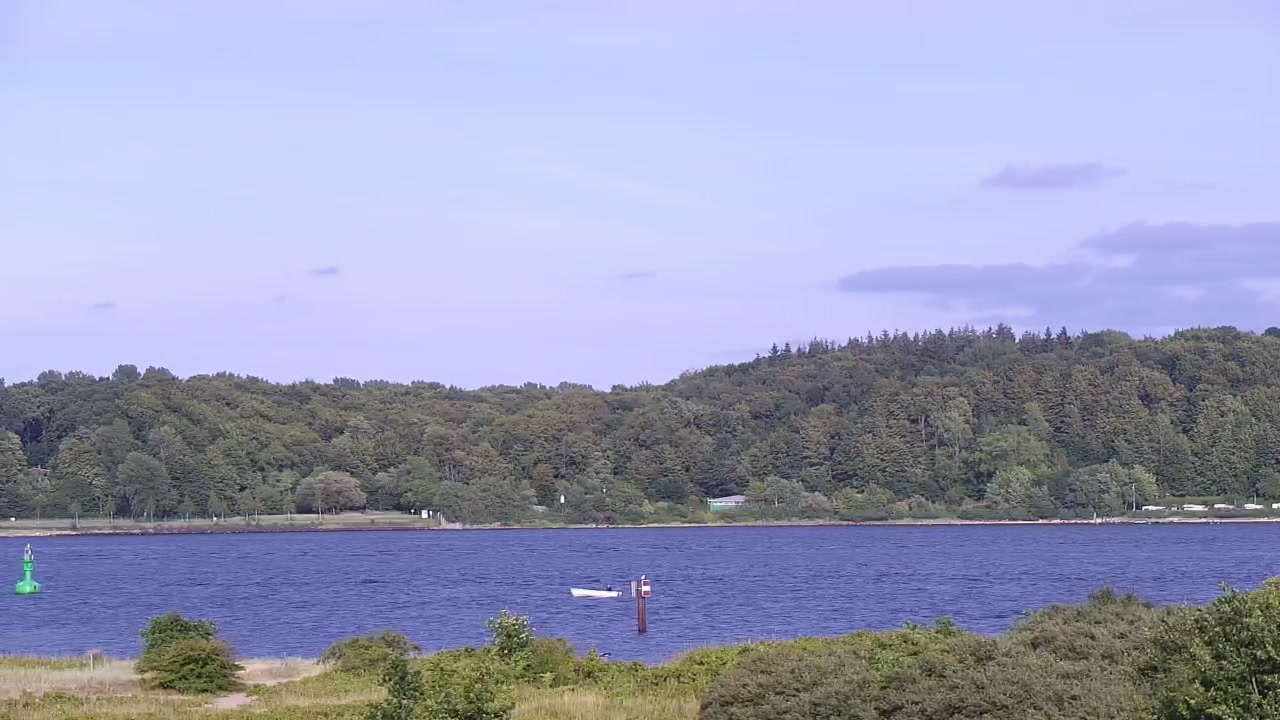sea: (568, 583, 622, 598)
